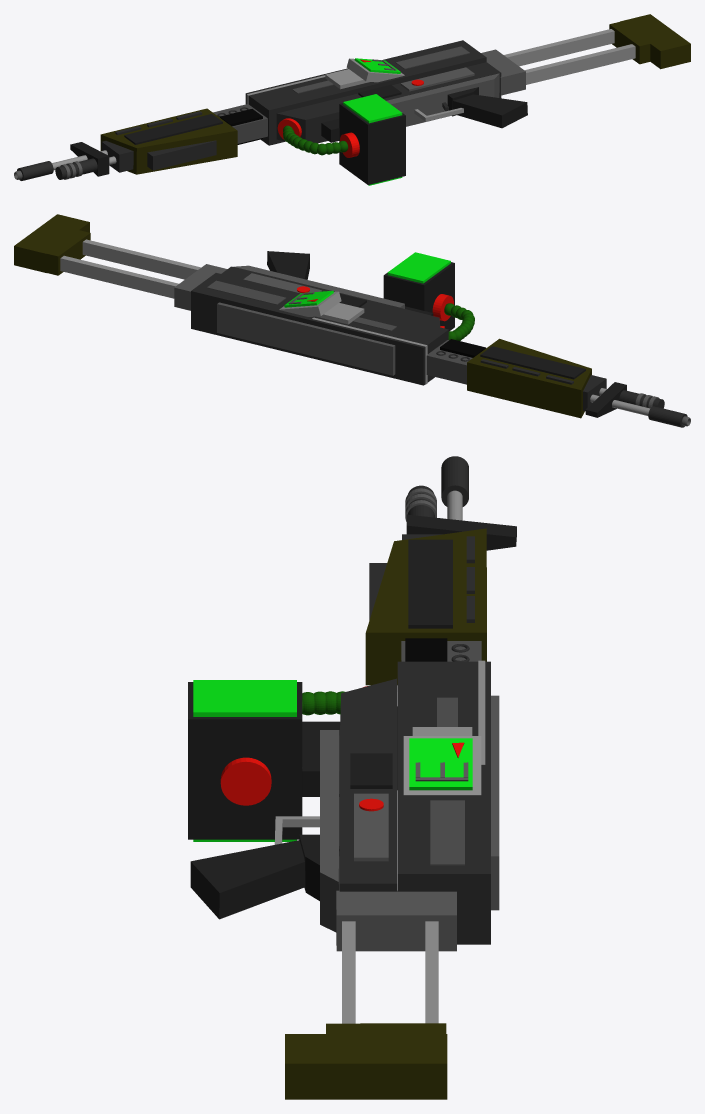
File: lmg02.fbx
3 renders of one model, top to bottom at view 1: azimuth 30°, elevation 25°; view 2: azimuth 150°, elevation 25°; view 3: azimuth 270°, elevation 25°, orthographic. The views are drawn at different scales.
Parts seen in each view (by area): view 1: Cube.028, Cube.038, Cube.012, Cube.003, Cube.011, Cube.001, Cube.005, Cube.010, Cube.002, Cube.017, Cube.035, Cube.039 (+19 smaller); view 2: Cube.028, Cube.027, Cube.012, Cube.038, Cube.011, Cube.010, Cube.005, Cube.035, Cube.039, Cube.013, Cube.007, Cube.001 (+17 smaller); view 3: Cube.028, Cube.038, Cube.011, Cube.012, Cube.015, Cube.001, Cube.009, Cube.039, Cube.035, Cube.003, Cube.002, Cube.021 (+14 smaller).
Boxes of the visible parts, bbox=[...] form: Cube.028: bbox=[245, 40, 486, 145]; Cube.038: bbox=[339, 103, 405, 184]; Cube.012: bbox=[100, 108, 237, 174]; Cube.003: bbox=[386, 73, 499, 126]; Cube.011: bbox=[620, 14, 690, 69]; Cube.001: bbox=[453, 94, 527, 128]; Cube.005: bbox=[525, 44, 635, 84]; Cube.010: bbox=[504, 29, 614, 66]; Cube.002: bbox=[276, 97, 345, 143]; Cube.017: bbox=[147, 140, 216, 170]; Cube.035: bbox=[124, 114, 222, 144]; Cube.039: bbox=[343, 94, 402, 185]; Cube.028: bbox=[191, 273, 448, 385]; Cube.027: bbox=[217, 302, 395, 375]; Cube.012: bbox=[467, 338, 591, 418]; Cube.038: bbox=[383, 262, 454, 331]; Cube.011: bbox=[14, 214, 89, 272]; Cube.010: bbox=[60, 255, 178, 298]; Cube.005: bbox=[82, 239, 200, 279]; Cube.035: bbox=[480, 346, 585, 379]; Cube.039: bbox=[387, 252, 450, 283]; Cube.013: bbox=[426, 340, 472, 384]; Cube.007: bbox=[46, 230, 90, 275]; Cube.001: bbox=[267, 251, 309, 279]; Cube.028: bbox=[397, 661, 490, 944]; Cube.038: bbox=[188, 682, 302, 839]; Cube.011: bbox=[285, 1034, 447, 1099]; Cube.012: bbox=[365, 528, 486, 685]; Cube.015: bbox=[336, 890, 456, 951]; Cube.001: bbox=[190, 840, 304, 919]; Cube.009: bbox=[339, 741, 397, 891]; Cube.039: bbox=[193, 680, 296, 841]; Cube.035: bbox=[408, 539, 452, 628]; Cube.003: bbox=[320, 730, 339, 932]; Cube.002: bbox=[339, 678, 397, 789]; Cube.021: bbox=[409, 738, 472, 790].
Size of the model in its own units: 3513 by 344 by 791.
